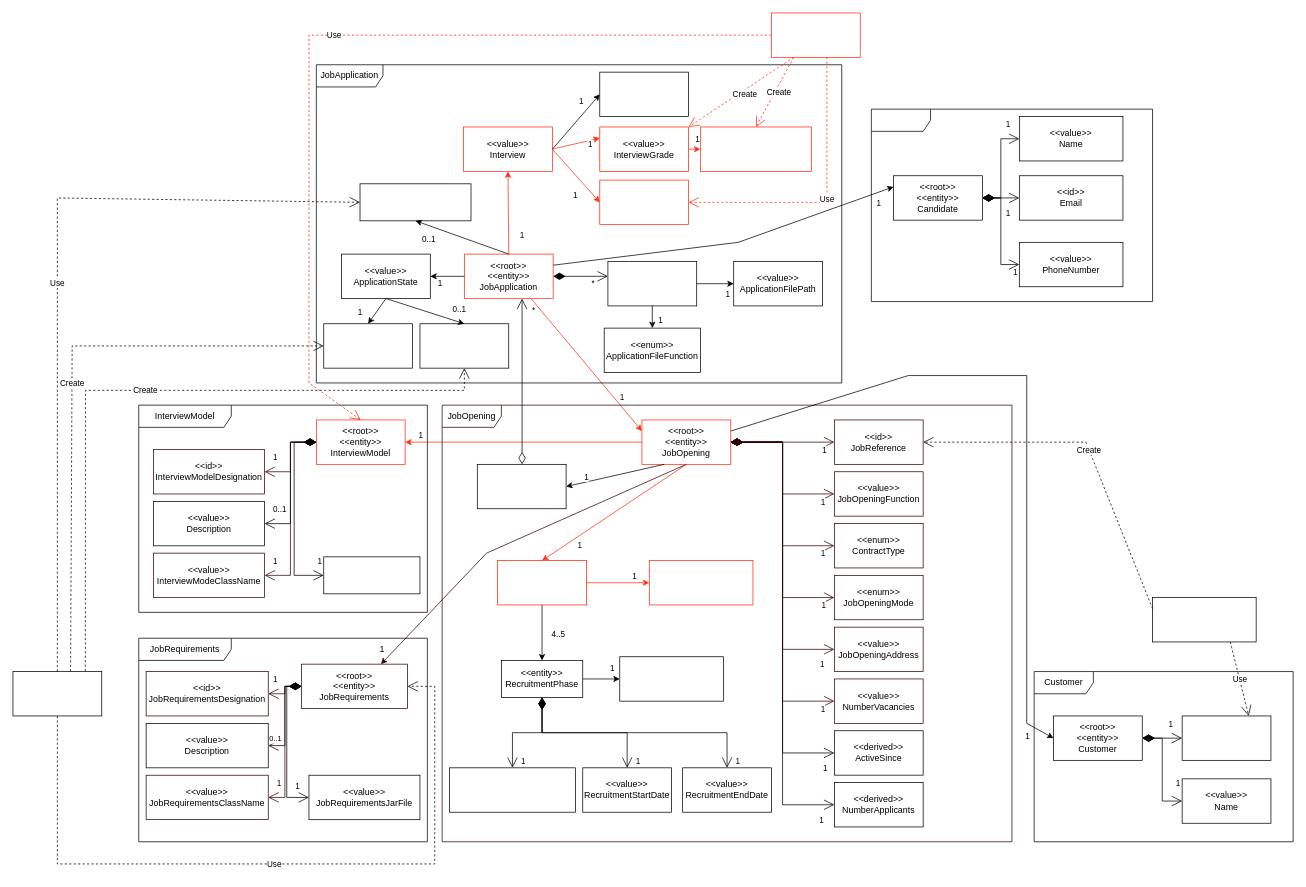
The diagram is 1306 pixels wide and 887 high, and some of its shapes have lost their labels. Here are the shapes that lost their labels. From the top down, the centre of each, then its label:
At pixel 815 34: "<<service>> InterviewEvaluator".
At pixel 644 94: "<<value>> InterviewTimeDate".
At pixel 755 148: "<<value>> InterviewGradeJustification".
At pixel 415 202: "<<value>> JobRequirements Answers".
At pixel 644 202: "<<value>> InterviewAnswers".
At pixel 1012 205: "Candidate".
At pixel 652 283: "<<value>> ApplicationFile".
At pixel 368 345: "<<enum>> ApplicationStateName".
At pixel 464 345: "<<value>> RejectionJustification".
At pixel 521 486: "<<entity>> Rank".
At pixel 371 575: "<<value>> InterviewModelJarFile".
At pixel 541 582: "<<entity>> RecruitmentProcess".
At pixel 701 582: "<<enum>> CurrentPhase".
At pixel 1204 619: "<<service>> JobReferenceGenerator".
At pixel 57 693: "<<service>> ReqEvaluation".
At pixel 671 678: "<<enum>> Recruitment PhaseState".
At pixel 1226 737: "<<id>> CustomerCode".
At pixel 512 789: "<<enum>> RecruitmentPhaseDesignation".
